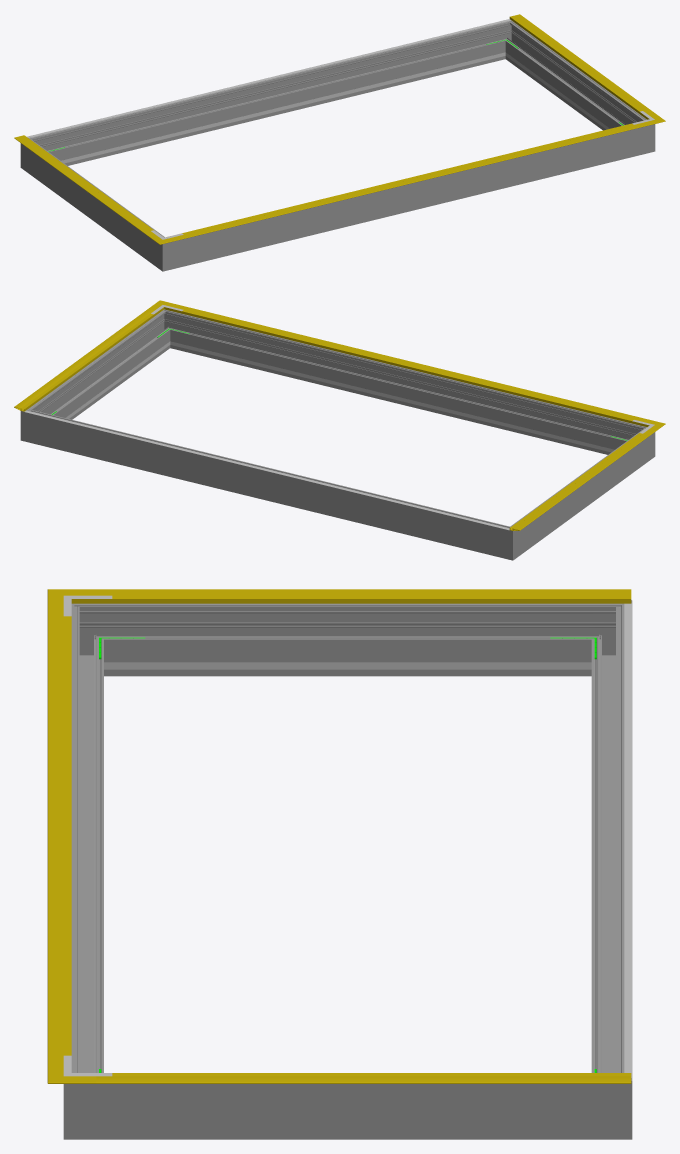
The picture shows the model from 3 angles, top to bottom: view 1: azimuth 30°, elevation 25°; view 2: azimuth 150°, elevation 25°; view 3: azimuth 270°, elevation 25°; orthographic projection. The views are drawn at different scales.
Visible parts, largest first — view 1: 3DGeom-276, 3DGeom-298, 3DGeom-297, 3DGeom-268, 3DGeom-141, 3DGeom-244, 3DGeom-145, 3DGeom-220, 3DGeom-158, 3DGeom-147, 3DGeom-270, 3DGeom-290 (+4 smaller); view 2: 3DGeom-298, 3DGeom-276, 3DGeom-297, 3DGeom-141, 3DGeom-268, 3DGeom-239, 3DGeom-145, 3DGeom-220, 3DGeom-158, 3DGeom-147, 3DGeom-278, 3DGeom-284 (+4 smaller); view 3: 3DGeom-268, 3DGeom-297, 3DGeom-276, 3DGeom-298, 3DGeom-141, 3DGeom-147, 3DGeom-145, 3DGeom-158, 3DGeom-220, 3DGeom-232, 3DGeom-284, 3DGeom-290 (+4 smaller).
Part boxes in pixels (bbox=[...]): 3DGeom-276: bbox=[43, 24, 501, 165]; 3DGeom-298: bbox=[184, 129, 633, 266]; 3DGeom-297: bbox=[507, 28, 639, 130]; 3DGeom-268: bbox=[32, 145, 156, 262]; 3DGeom-141: bbox=[177, 123, 644, 239]; 3DGeom-244: bbox=[68, 57, 485, 162]; 3DGeom-145: bbox=[509, 14, 653, 116]; 3DGeom-220: bbox=[27, 19, 510, 138]; 3DGeom-158: bbox=[182, 123, 633, 234]; 3DGeom-147: bbox=[14, 136, 154, 235]; 3DGeom-270: bbox=[150, 231, 183, 271]; 3DGeom-290: bbox=[634, 114, 655, 156]; 3DGeom-298: bbox=[173, 314, 631, 454]; 3DGeom-276: bbox=[41, 413, 495, 555]; 3DGeom-297: bbox=[36, 317, 167, 419]; 3DGeom-141: bbox=[175, 305, 644, 424]; 3DGeom-268: bbox=[519, 434, 642, 551]; 3DGeom-239: bbox=[190, 346, 607, 451]; 3DGeom-145: bbox=[14, 309, 157, 411]; 3DGeom-220: bbox=[24, 410, 509, 530]; 3DGeom-158: bbox=[182, 310, 633, 420]; 3DGeom-147: bbox=[509, 431, 653, 530]; 3DGeom-278: bbox=[492, 520, 525, 560]; 3DGeom-284: bbox=[20, 403, 45, 445]; 3DGeom-268: bbox=[112, 603, 583, 676]; 3DGeom-297: bbox=[112, 1084, 583, 1139]; 3DGeom-276: bbox=[591, 621, 632, 1072]; 3DGeom-298: bbox=[71, 621, 103, 1072]; 3DGeom-141: bbox=[47, 609, 63, 1062]; 3DGeom-147: bbox=[96, 589, 631, 603]; 3DGeom-145: bbox=[96, 1076, 631, 1083]; 3DGeom-158: bbox=[63, 616, 71, 1055]; 3DGeom-220: bbox=[624, 603, 631, 1077]; 3DGeom-232: bbox=[151, 662, 544, 669]; 3DGeom-284: bbox=[583, 1060, 632, 1139]; 3DGeom-290: bbox=[63, 1060, 112, 1139].
Bounding box in the file's own units: 3.66 × 0.2195 × 1.83.
